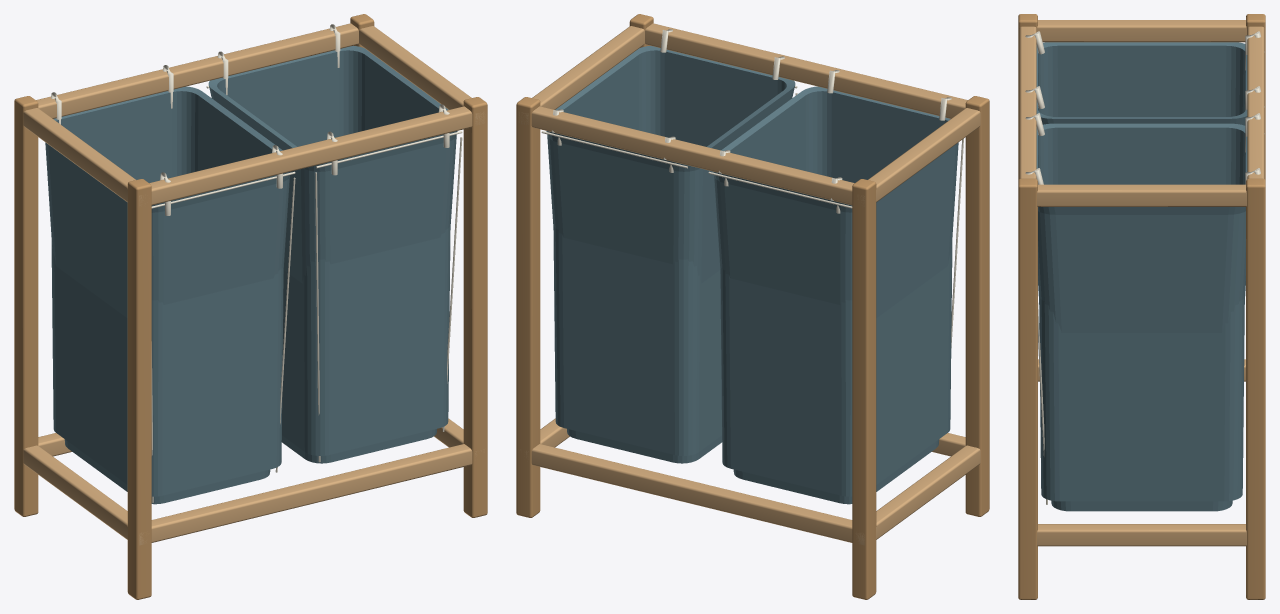
The model's file is laundry-divided-hamper.glb.
The picture shows the model from 3 angles, left to right: view 1: azimuth 30°, elevation 25°; view 2: azimuth 150°, elevation 25°; view 3: azimuth 270°, elevation 25°; orthographic projection.
Visible parts, largest first — view 1: laundry-divided-hamper authored assembly; view 2: laundry-divided-hamper authored assembly; view 3: laundry-divided-hamper authored assembly.
Boxes of the visible parts, box(x1,y1,x2,y2) form: laundry-divided-hamper authored assembly: box(14, 14, 487, 599); laundry-divided-hamper authored assembly: box(516, 14, 989, 599); laundry-divided-hamper authored assembly: box(1018, 14, 1265, 599).
Bounding box in the file's own units: 0.66 × 0.74 × 0.4.
